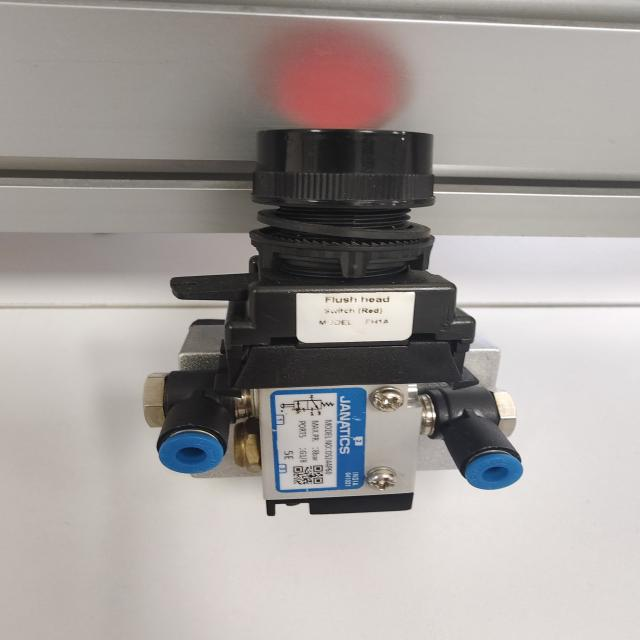push button: (142, 127, 525, 516)
